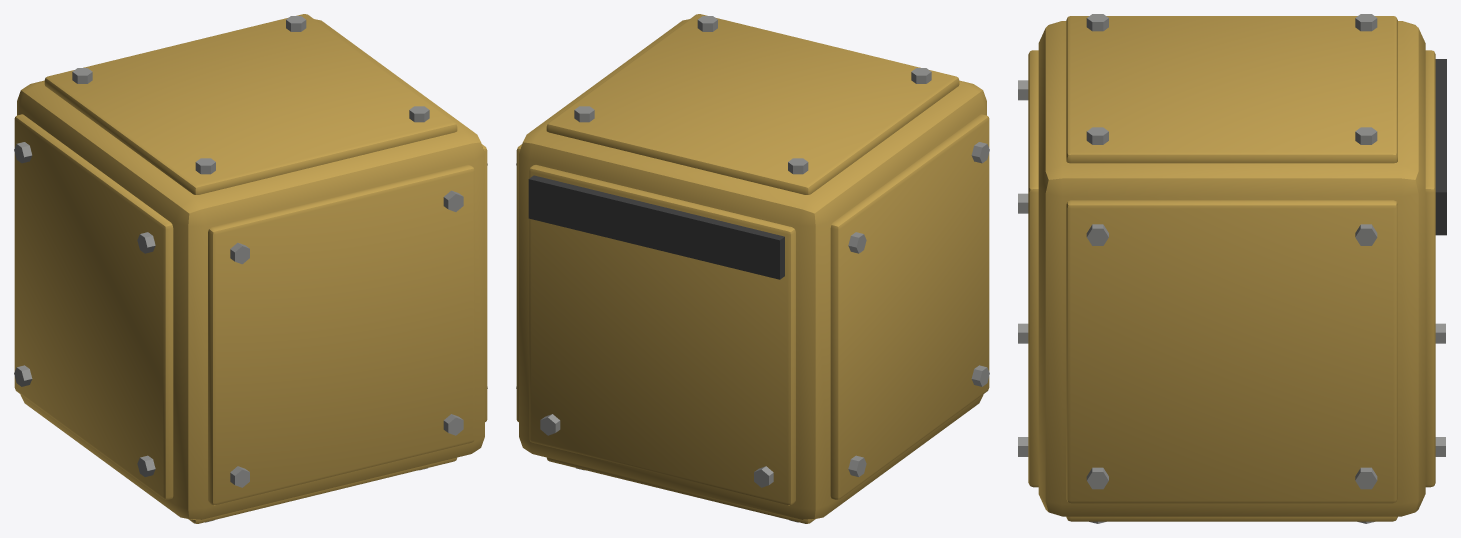
File: armor.glb
The picture shows the model from 3 angles, left to right: view 1: azimuth 30°, elevation 25°; view 2: azimuth 150°, elevation 25°; view 3: azimuth 270°, elevation 25°; orthographic projection. The views are drawn at different scales.
Parts seen in each view (by area): view 1: Part; view 2: Part; view 3: Part.
Part boxes in pixels (x1,y1,x2,y2): Part: [14, 14, 487, 523]; Part: [516, 14, 989, 523]; Part: [1018, 14, 1446, 523].
Bounding box in the file's own units: 0.542 × 0.542 × 0.543.
